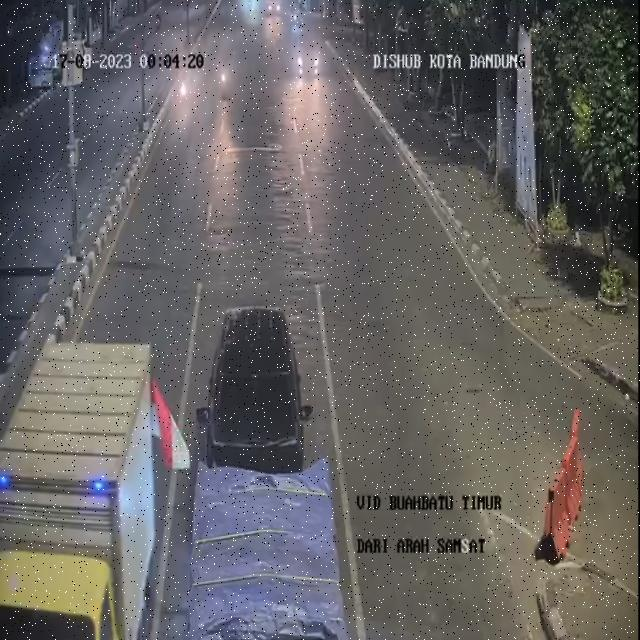cars: (208, 301, 311, 470)
truck: (0, 335, 163, 639), (184, 467, 344, 640)
